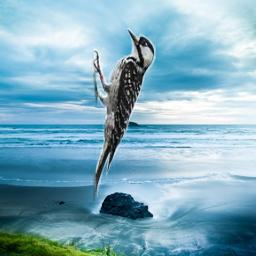Woodpecker: (91, 28, 156, 201)
